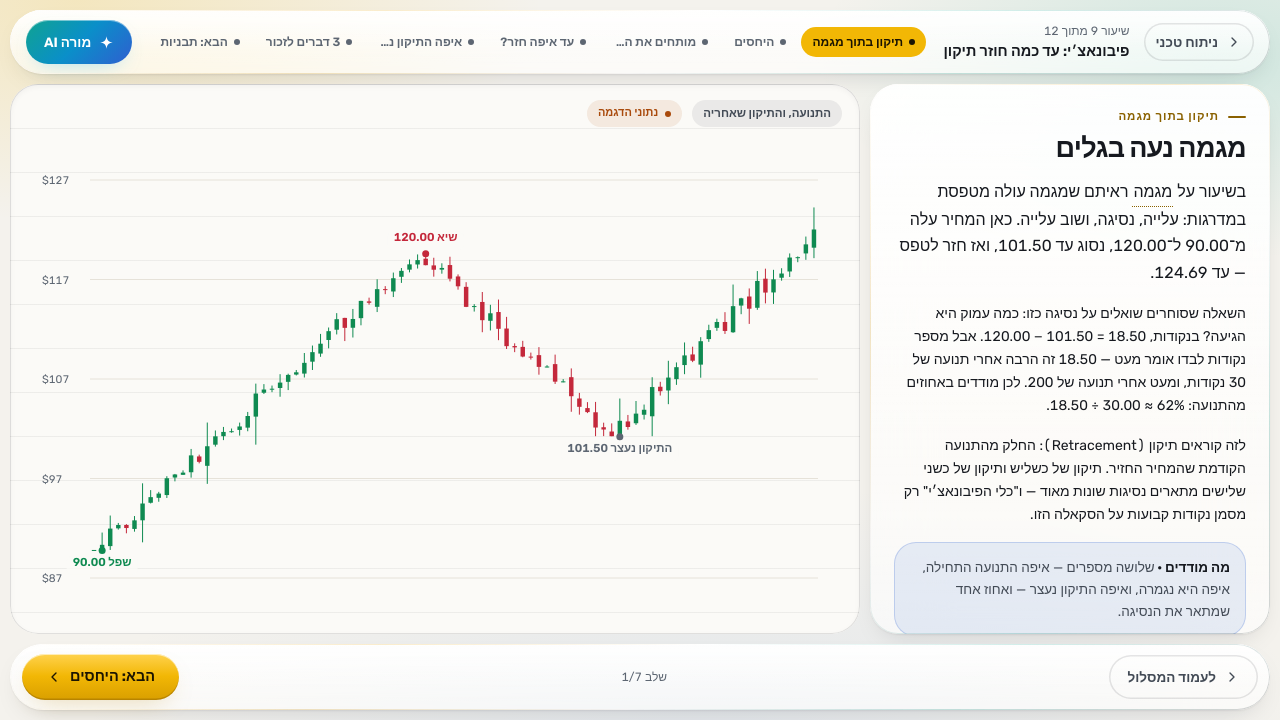
it: lessons without a chart exercise use their own first quiz question › the feedback step offers the tutor on this lesson
Step 1. Click the button "עד איפה חזר?" → [543, 42], box [489,27,597,57]
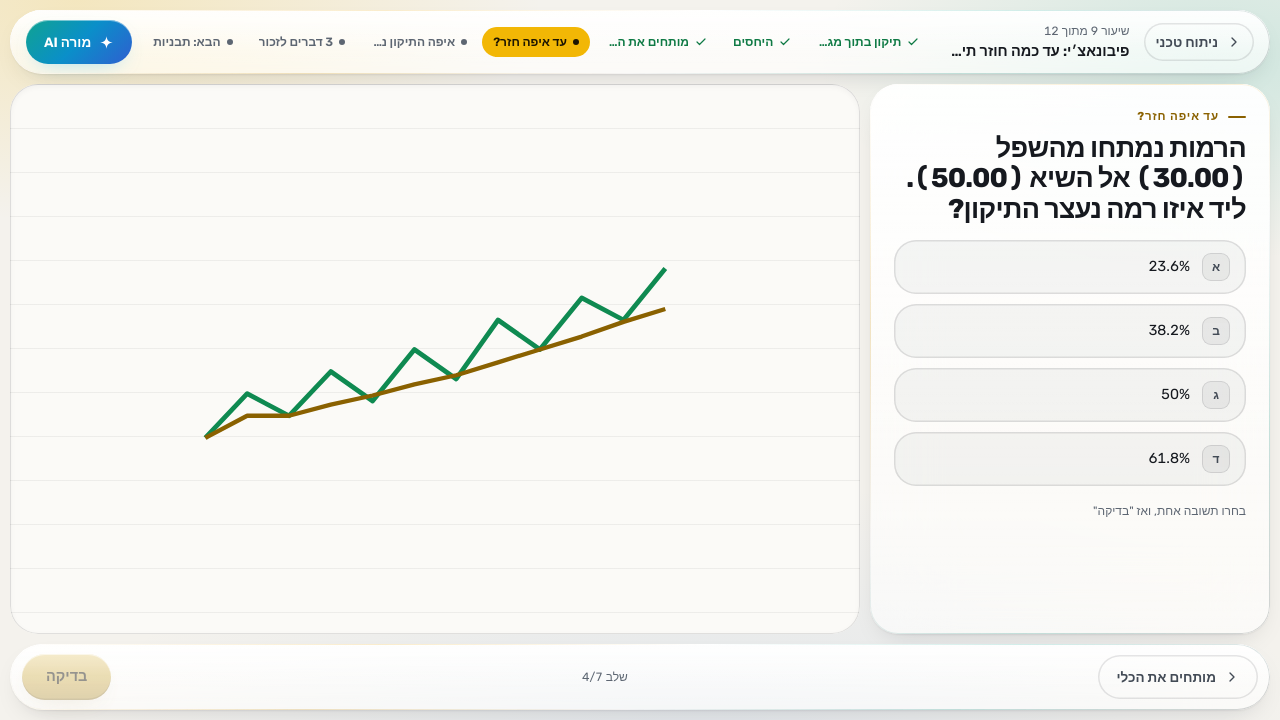
Step 2. Click the radio button labelled "ג 50%" → [1216, 395], box [894,368,1246,422]
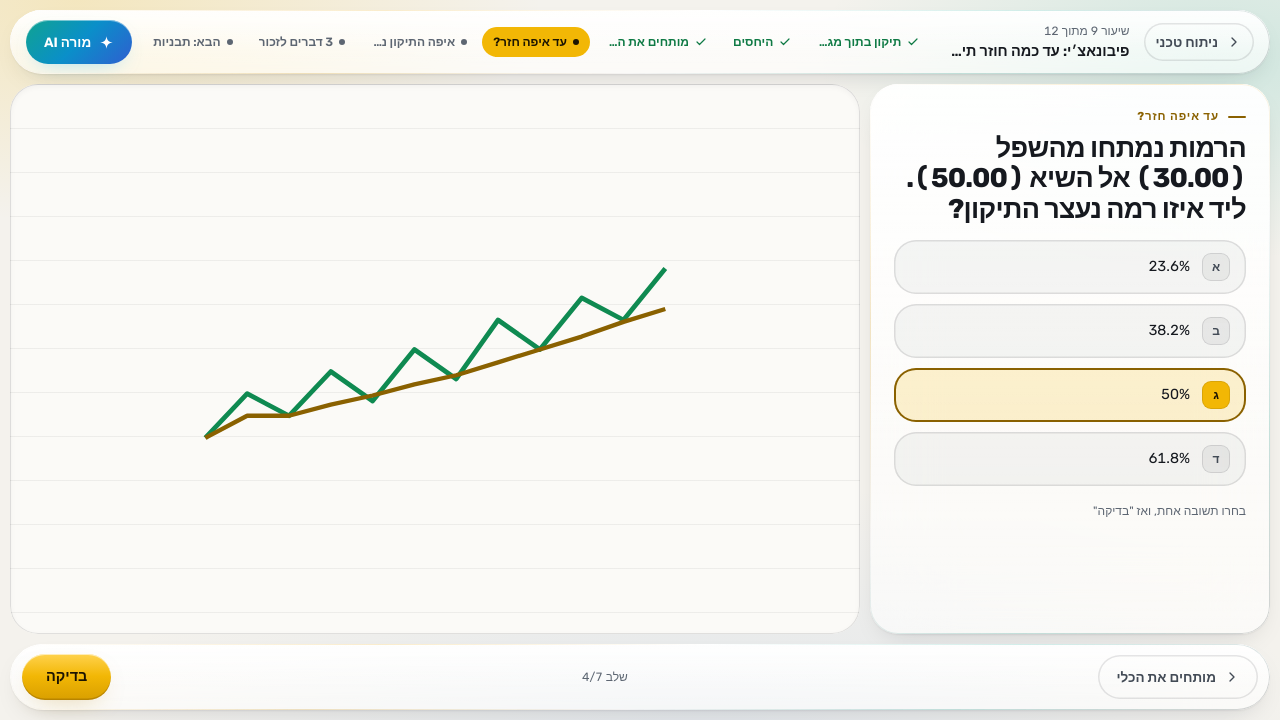
Step 3. Click the button "בדיקה" → [67, 677], box [22,654,111,700]
(page scrolled)
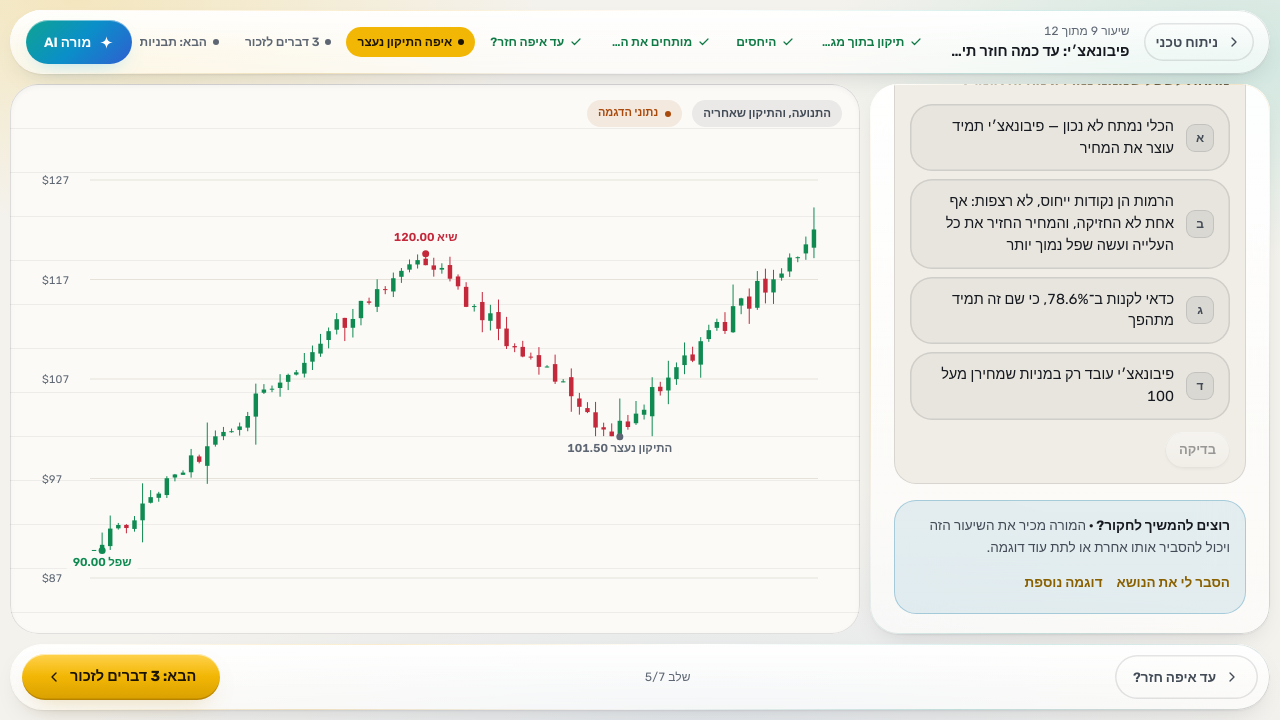
Step 4. Click the button "הסבר לי את הנושא" → [1173, 582], box [1116,564,1230,600]
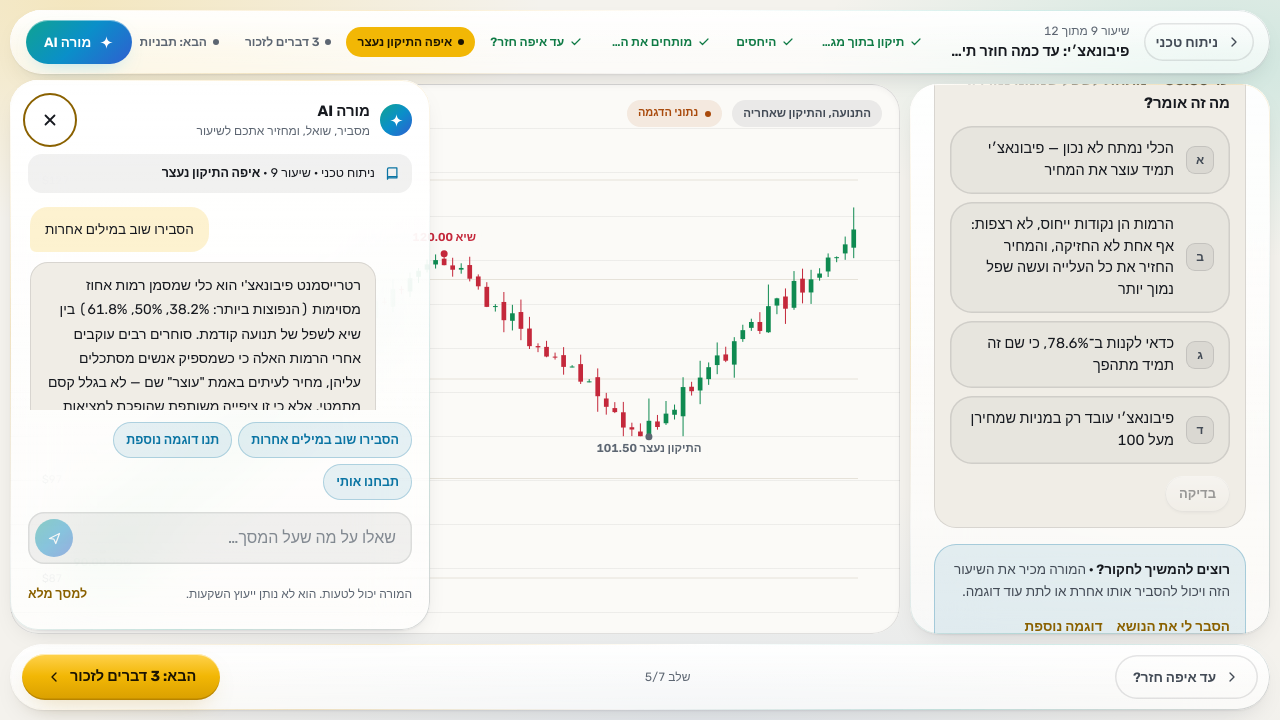
Check: the element "מורה AI" shows "פיבונאצ", box [45,277,361,535]
